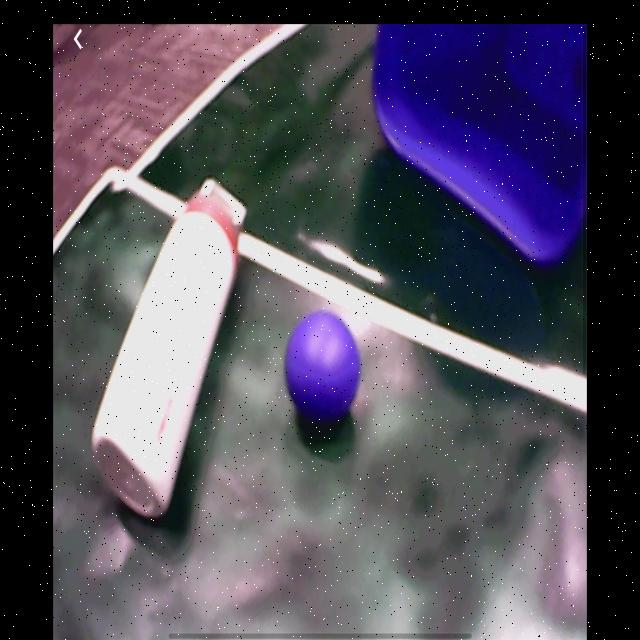ball: (284, 310, 363, 426)
